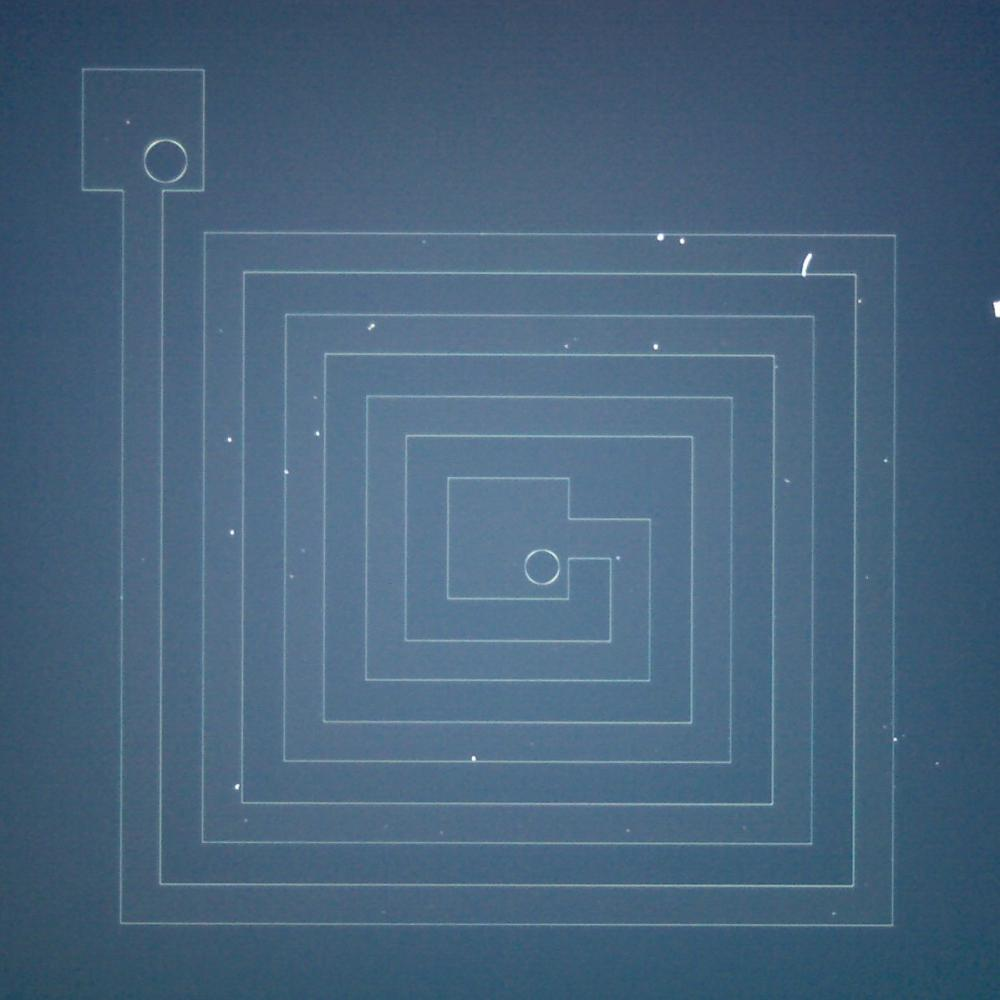curve: (797, 254, 815, 273), (984, 302, 999, 319)
dot: (657, 233, 664, 241), (678, 238, 685, 245), (234, 784, 241, 790), (653, 344, 659, 350), (229, 530, 235, 536), (471, 755, 477, 761), (227, 437, 232, 442), (785, 478, 790, 483), (289, 574, 294, 579), (893, 737, 898, 742), (126, 120, 130, 126), (370, 324, 375, 328), (564, 344, 569, 348), (284, 470, 289, 474), (626, 828, 630, 833), (832, 912, 836, 916), (314, 395, 318, 399), (316, 431, 320, 435), (884, 458, 888, 462), (616, 556, 620, 560), (935, 761, 939, 765)
